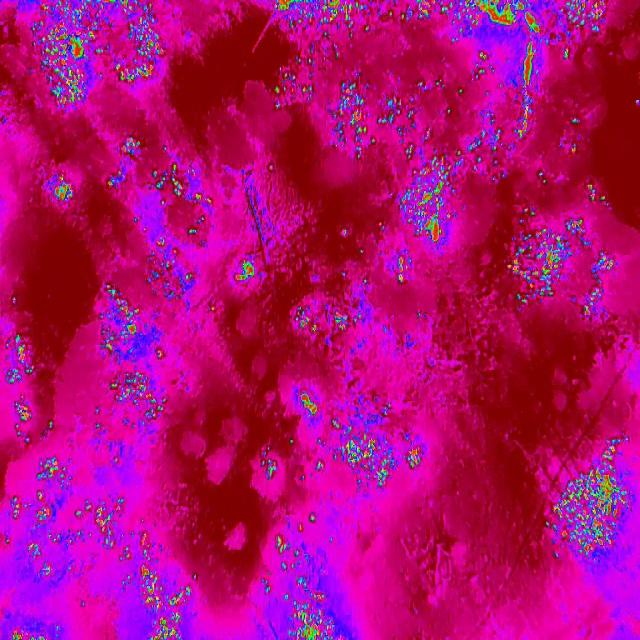fire: (274, 0, 592, 125), (0, 454, 199, 640), (332, 122, 534, 250), (502, 174, 618, 321), (280, 381, 426, 493), (91, 246, 181, 427), (27, 0, 170, 112), (252, 509, 357, 640), (100, 133, 218, 246), (543, 444, 640, 568), (2, 326, 53, 456), (288, 296, 364, 353), (248, 448, 284, 487), (50, 167, 76, 206), (386, 250, 408, 288), (234, 256, 258, 286)
